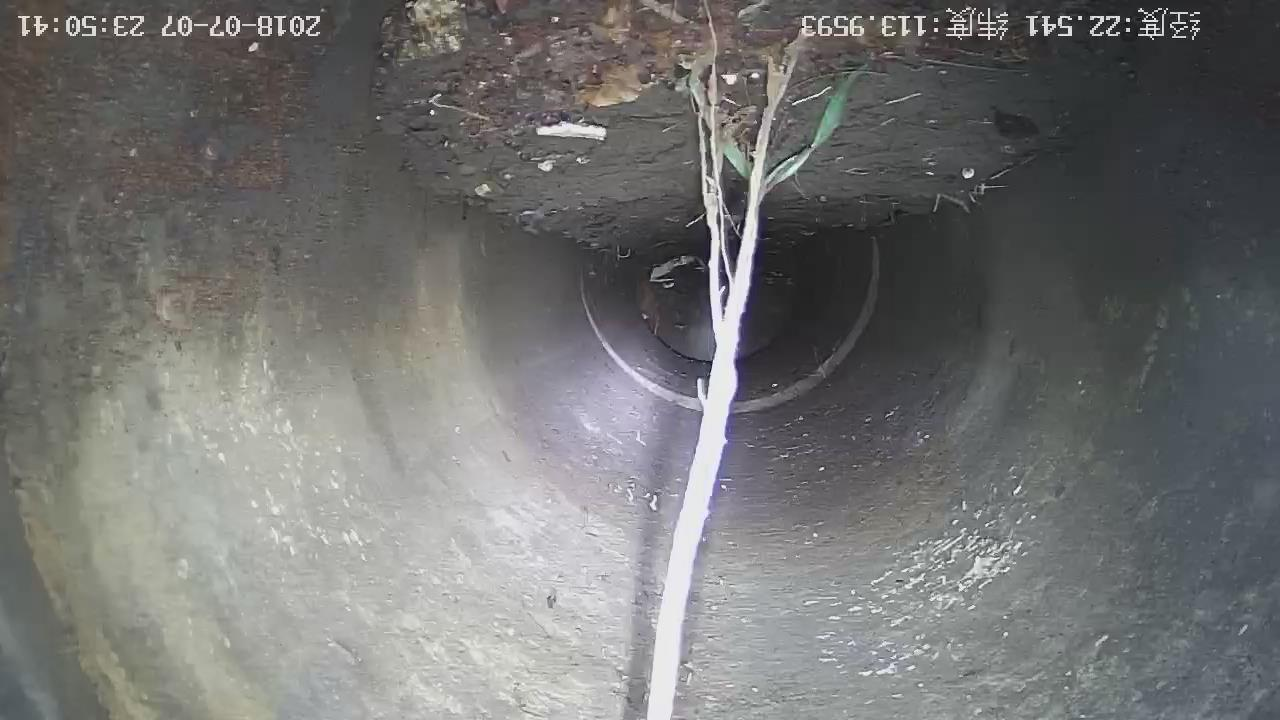CJ: (719, 1, 1169, 255), (380, 1, 710, 259)
CKTJ: (733, 243, 880, 414), (582, 282, 701, 411)
SG: (648, 20, 803, 720)
